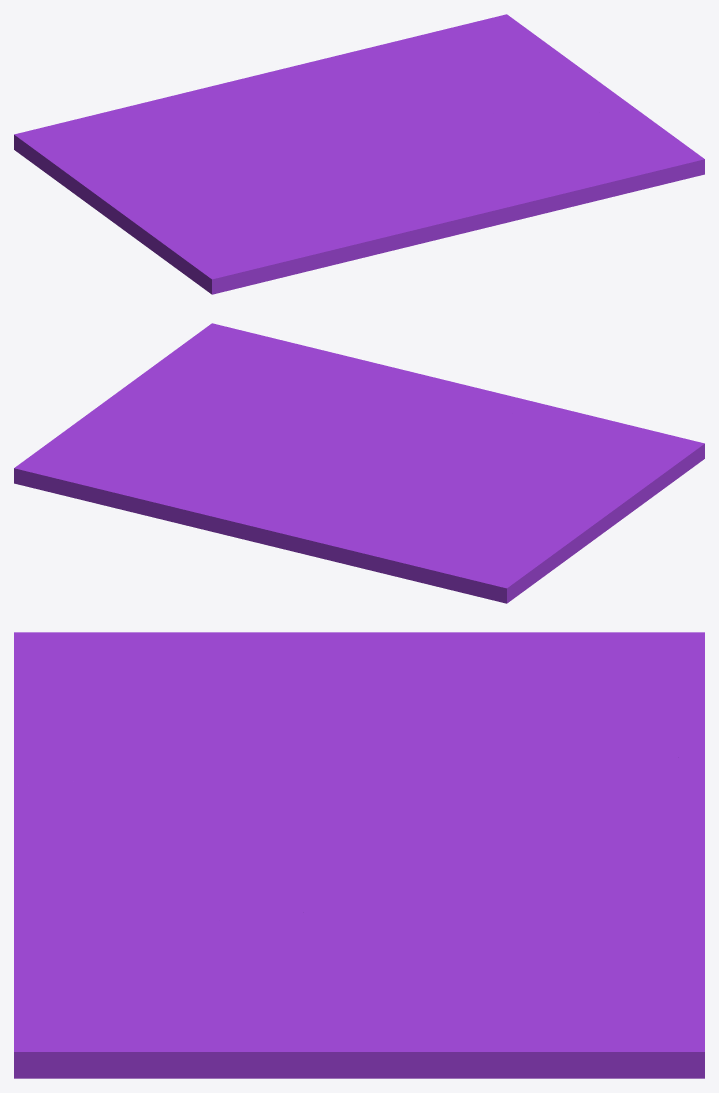
Rendered from Platform_13_chunks.fbx.
3 views of the same model, one above another, from view 1: azimuth 30°, elevation 25°; view 2: azimuth 150°, elevation 25°; view 3: azimuth 270°, elevation 25° (orthographic). The views are drawn at different scales.
Visible parts, largest first — view 1: Platform_13_10, Platform_13_4, Platform_13_5, Platform_13_9, Platform_13_1, Platform_13_8, Platform_13_3, Platform_13_15, Platform_13_6, Platform_13_13, Platform_13_12, Platform_13_14 (+3 smaller); view 2: Platform_13_10, Platform_13_4, Platform_13_9, Platform_13_3, Platform_13_5, Platform_13_1, Platform_13_8, Platform_13_15, Platform_13_6, Platform_13_13, Platform_13_12, Platform_13_2 (+2 smaller); view 3: Platform_13_10, Platform_13_4, Platform_13_9, Platform_13_8, Platform_13_5, Platform_13_1, Platform_13_3, Platform_13_15, Platform_13_6, Platform_13_13, Platform_13_12, Platform_13_14 (+3 smaller).
Part boxes in pixels (x1,y1,x2,y2): Platform_13_10: [372, 14, 638, 115]; Platform_13_4: [14, 98, 238, 219]; Platform_13_5: [175, 185, 368, 294]; Platform_13_9: [281, 47, 473, 151]; Platform_13_1: [120, 151, 338, 267]; Platform_13_8: [443, 111, 704, 176]; Platform_13_3: [161, 69, 351, 153]; Platform_13_15: [473, 154, 694, 215]; Platform_13_6: [294, 148, 497, 197]; Platform_13_13: [362, 194, 510, 236]; Platform_13_12: [355, 162, 475, 211]; Platform_13_14: [462, 186, 562, 221]; Platform_13_10: [14, 371, 224, 515]; Platform_13_4: [360, 497, 615, 596]; Platform_13_9: [148, 423, 352, 537]; Platform_13_3: [238, 460, 428, 567]; Platform_13_5: [466, 405, 704, 485]; Platform_13_1: [383, 458, 668, 523]; Platform_13_8: [147, 323, 326, 425]; Platform_13_15: [227, 327, 381, 406]; Platform_13_6: [305, 401, 470, 460]; Platform_13_13: [405, 376, 523, 422]; Platform_13_12: [334, 394, 490, 431]; Platform_13_2: [360, 518, 615, 603]; Platform_13_10: [238, 936, 704, 1078]; Platform_13_4: [325, 632, 704, 761]; Platform_13_9: [271, 843, 704, 945]; Platform_13_8: [14, 891, 350, 1078]; Platform_13_5: [14, 632, 280, 794]; Platform_13_1: [143, 632, 448, 823]; Platform_13_3: [354, 757, 704, 859]; Platform_13_15: [14, 882, 212, 1038]; Platform_13_6: [180, 767, 336, 924]; Platform_13_13: [14, 781, 126, 866]; Platform_13_12: [102, 787, 206, 901]; Platform_13_14: [14, 865, 117, 930].
Bounding box in the file's own units: 1009 × 29.87 × 702.
